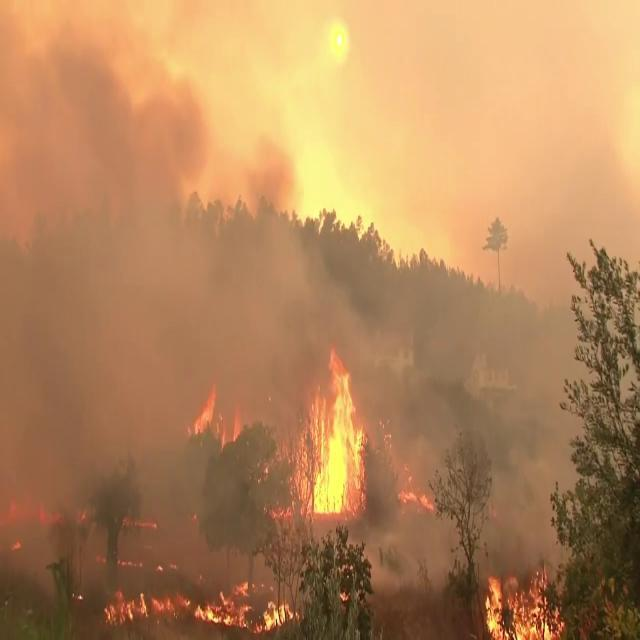Fire: (295, 343, 370, 521), (481, 558, 564, 638), (192, 572, 297, 633), (188, 378, 244, 452)
Smoke: (0, 1, 292, 552), (381, 8, 640, 560)
